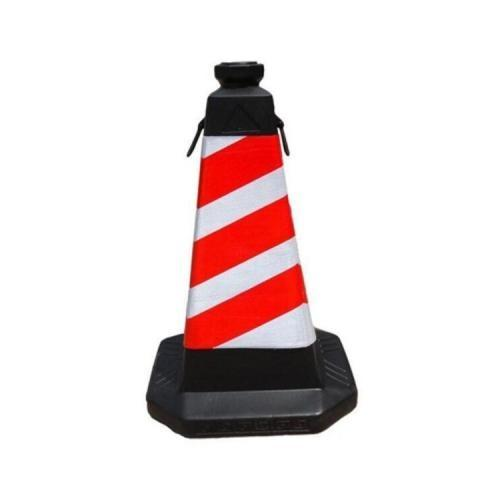cone_barrel: (140, 67, 352, 431)
